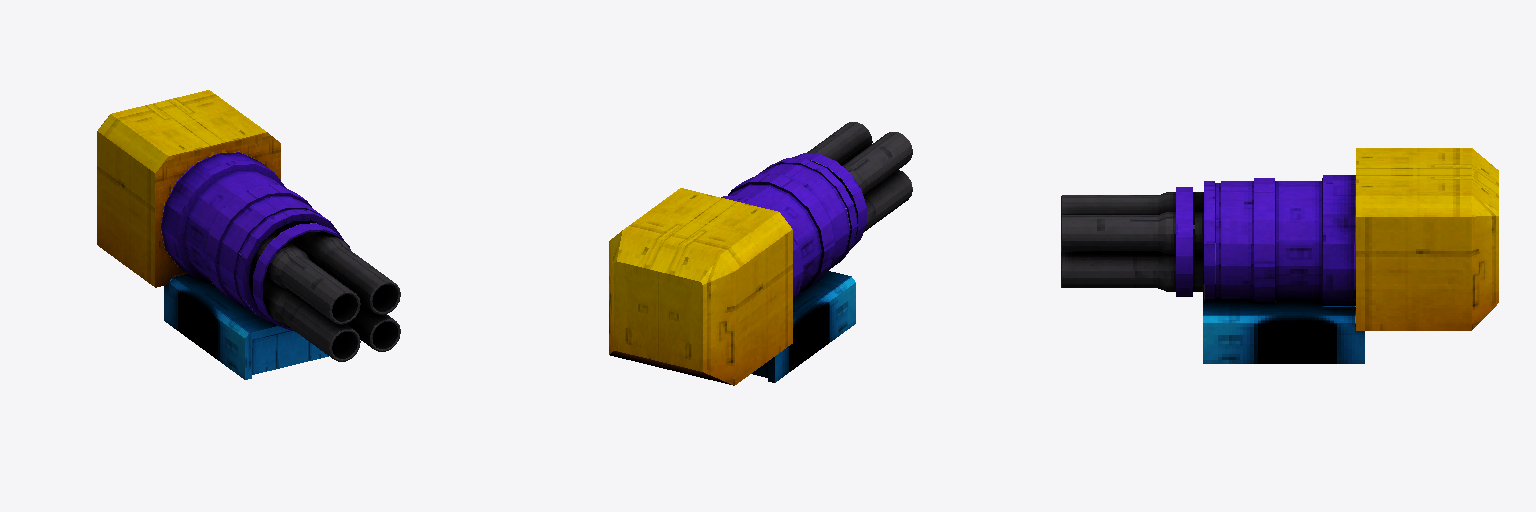
3 views of the same model, side by side, from view 1: azimuth 30°, elevation 25°; view 2: azimuth 150°, elevation 25°; view 3: azimuth 270°, elevation 25° (orthographic).
Visible parts, largest first — view 1: Object013; view 2: Object013; view 3: Object013.
Boxes of the visible parts, x1,y1,x2,y2 form: Object013: [97, 90, 400, 379]; Object013: [609, 122, 912, 385]; Object013: [1061, 148, 1498, 363].
Size of the model in its own units: 27.76 by 35.5 by 84.04.
Materials: 1 (1 with a texture image).